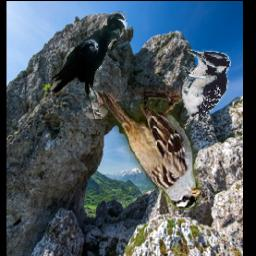Crow: (52, 11, 128, 119)
Sparrow: (98, 86, 201, 211)
Woodpecker: (177, 50, 230, 130)
